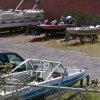Boat: (25, 17, 100, 43)
